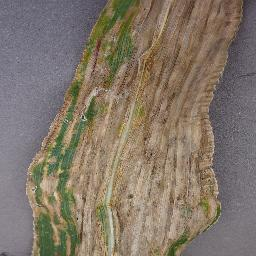Corn_Blight: (20, 0, 244, 254)
